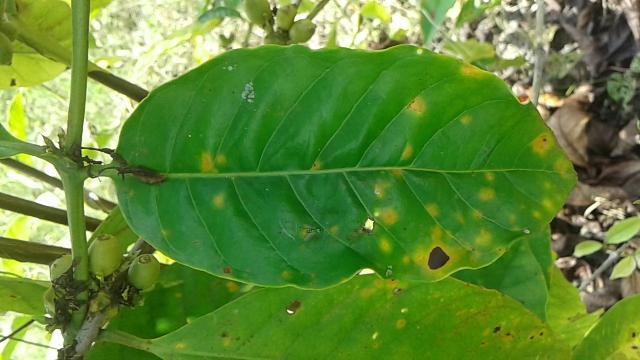rust_level_2: (108, 45, 579, 290)
